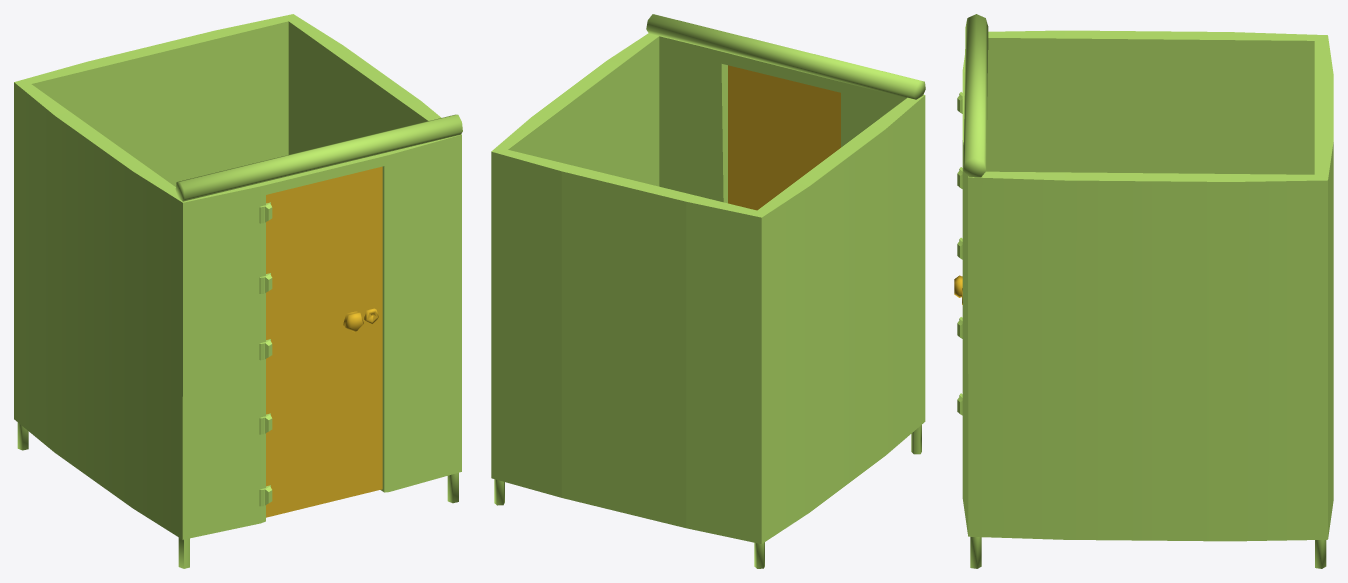
Rendered from wchokje.fbx.
3 views of the same model, side by side, from view 1: azimuth 30°, elevation 25°; view 2: azimuth 150°, elevation 25°; view 3: azimuth 270°, elevation 25° (orthographic). The views are drawn at different scales.
Visible parts, largest first — view 1: Cube.001, Cube.002; view 2: Cube.001, Cube.002; view 3: Cube.001.
Part boxes in pixels (left/top/right/bottom): Cube.001: left=14, top=14, right=462, bottom=568; Cube.002: left=266, top=166, right=382, bottom=517; Cube.001: left=491, top=14, right=925, bottom=568; Cube.002: left=728, top=65, right=840, bottom=210; Cube.001: left=957, top=14, right=1333, bottom=568.
Size of the model in its own units: 0.6117 by 0.7814 by 0.6535.
